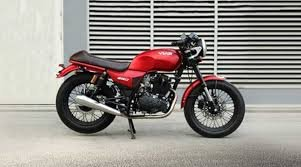motor: (53, 40, 247, 137)
